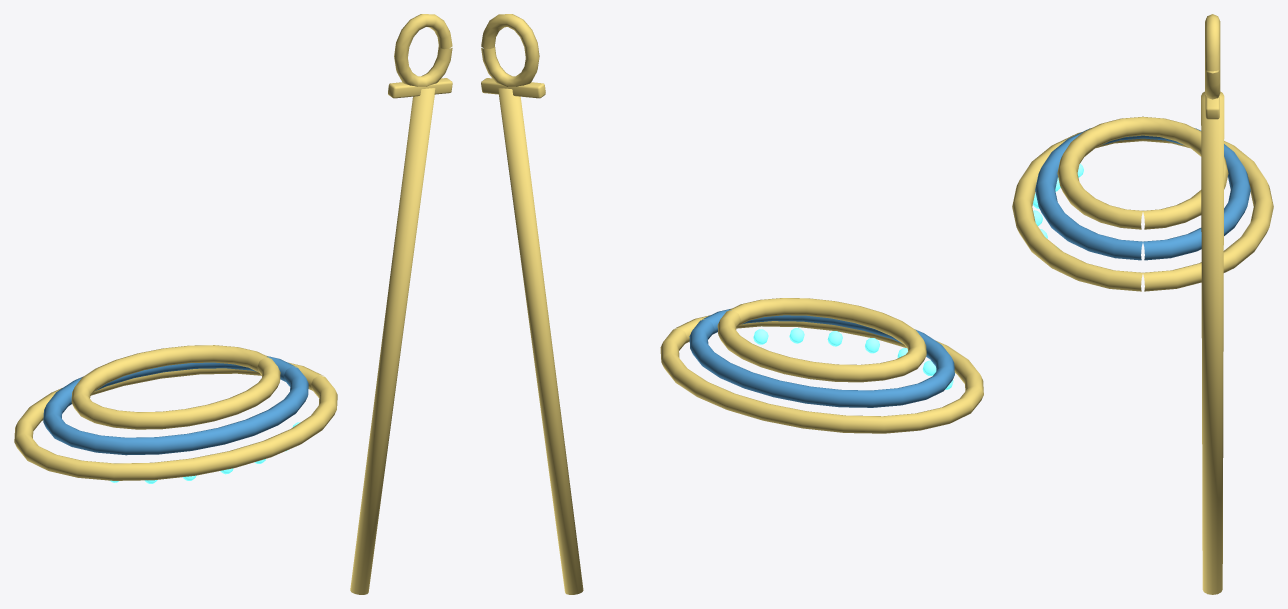
File: boss_ramesses_torso.glb
3 renders of one model, left to right at view 1: azimuth 30°, elevation 25°; view 2: azimuth 150°, elevation 25°; view 3: azimuth 270°, elevation 25°, orthographic. The views are drawn at different scales.
Visible parts, largest first — view 1: WasShaft, UsekhTier_2, UsekhTier_0, UsekhTier_1, WasAnkhLoop, WasAnkhCross; view 2: WasShaft, UsekhTier_2, UsekhTier_0, UsekhTier_1, WasAnkhLoop, WasAnkhCross; view 3: WasShaft, UsekhTier_2, UsekhTier_0, UsekhTier_1, WasAnkhLoop.
Boxes of the visible parts, bbox=[...] form: WasShaft: bbox=[350, 88, 435, 594]; UsekhTier_2: bbox=[14, 362, 337, 480]; UsekhTier_0: bbox=[71, 345, 280, 429]; UsekhTier_1: bbox=[43, 356, 308, 455]; WasAnkhLoop: bbox=[394, 14, 452, 86]; WasAnkhCross: bbox=[388, 78, 452, 98]; WasShaft: bbox=[498, 88, 583, 594]; UsekhTier_2: bbox=[660, 315, 983, 433]; UsekhTier_0: bbox=[717, 298, 926, 382]; UsekhTier_1: bbox=[689, 309, 954, 407]; WasAnkhLoop: bbox=[481, 14, 539, 86]; WasAnkhCross: bbox=[481, 78, 545, 98]; WasShaft: bbox=[1201, 91, 1224, 594]; UsekhTier_2: bbox=[1012, 132, 1273, 291]; UsekhTier_0: bbox=[1057, 116, 1228, 229]; UsekhTier_1: bbox=[1035, 128, 1250, 260]; WasAnkhLoop: bbox=[1205, 14, 1220, 99].
Size of the model in its own units: 0.7389 by 0.8661 by 0.338.
